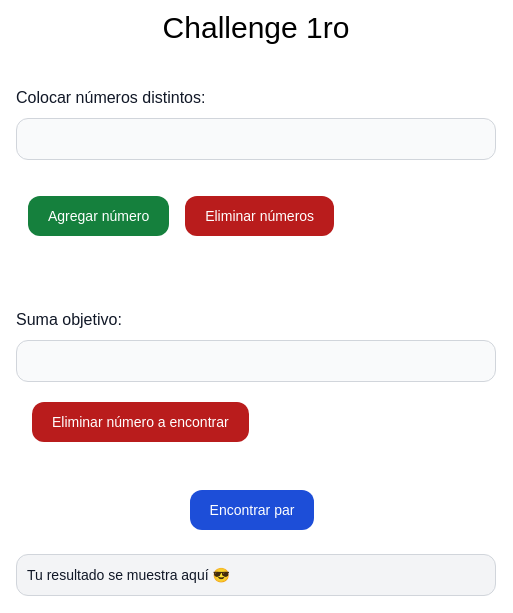
Test: FirstChallengeScreen › should show an error when entering an invalid number
The image size is (513, 613).
Type "abc" into the field labelled "Colocar números distintos:".
click(256, 139); type("abc")  # box 16,118 -> 496,160
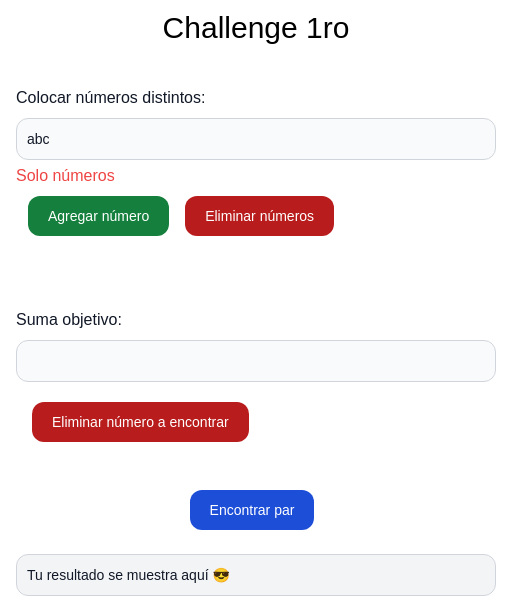
Expected: the text "Solo números" is shown, 16,164 -> 115,188
